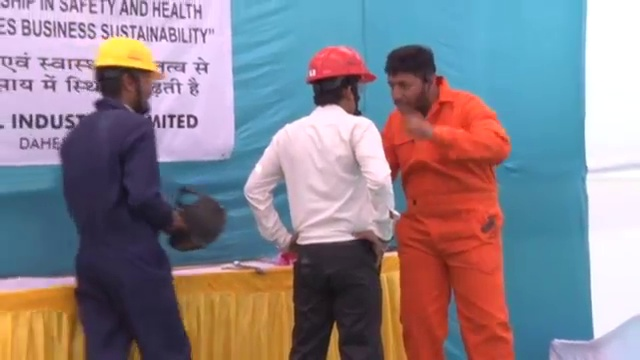helmet: (91, 34, 162, 82), (302, 42, 377, 83)
helmet_off: (387, 45, 438, 111)
helmet_on: (88, 33, 163, 115), (299, 41, 377, 117)
person: (243, 42, 395, 360), (379, 43, 521, 359), (59, 32, 191, 360)
